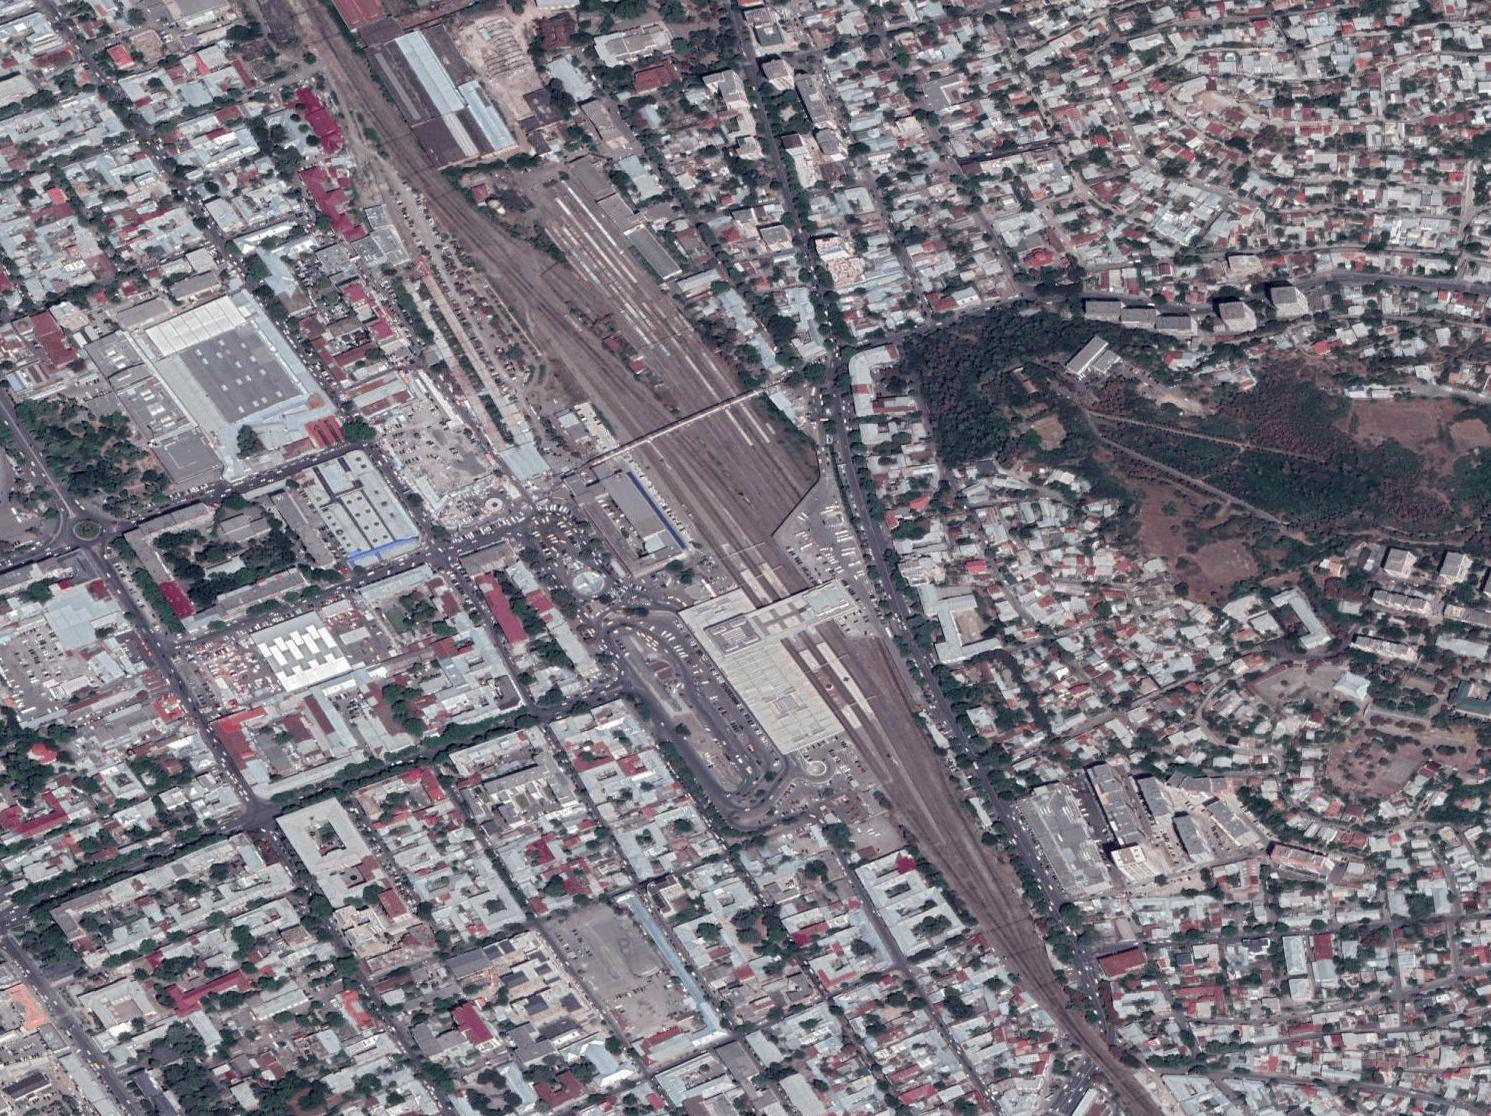bridge: (629, 381, 763, 445)
train_station: (676, 554, 898, 757)
